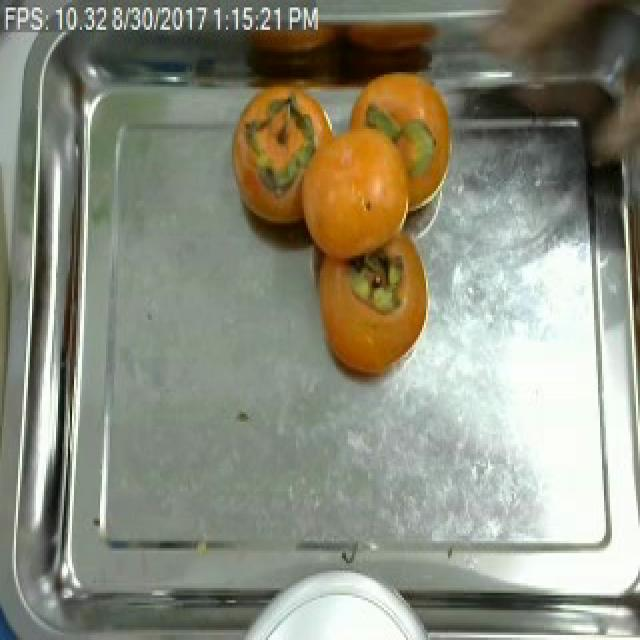Fruit: (222, 79, 320, 231)
